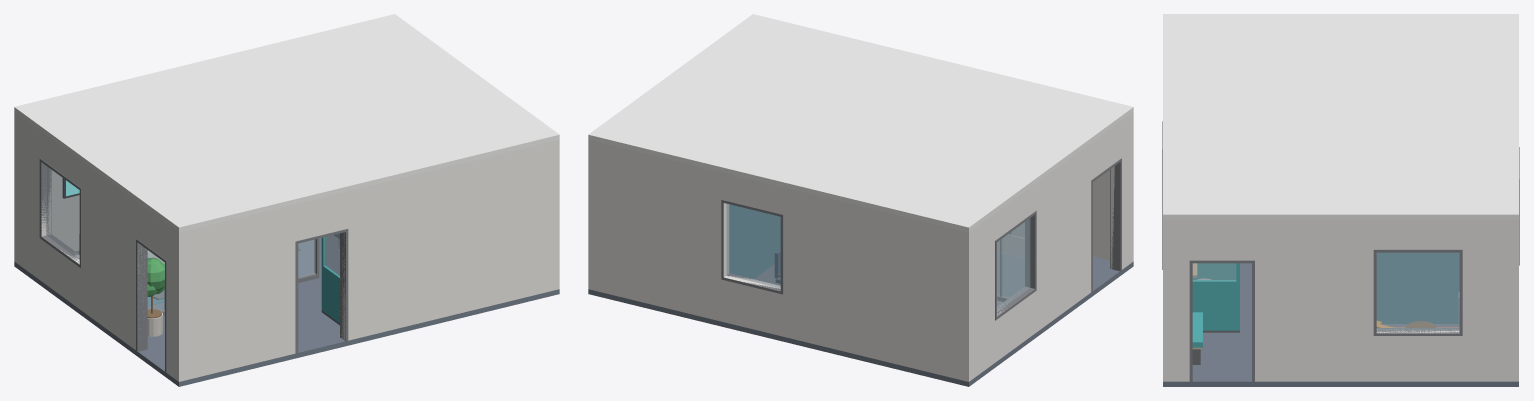
3 views of the same model, side by side, from view 1: azimuth 30°, elevation 25°; view 2: azimuth 150°, elevation 25°; view 3: azimuth 270°, elevation 25° (orthographic). The views are drawn at different scales.
Parts seen in each view (by area): view 1: Ceiling, Wall_S, Wall_W, Floor, Frames_W, Wall_N, PhoneBooth_01, Frames_S, GlassPartition, Plant_Lobby; view 2: Ceiling, Wall_N, Wall_W, Frames_N, Floor, Frames_W, Divider_B, Wall_S, GlassPartition; view 3: Ceiling, Wall_E, Frames_E, Divider_B, Floor, PhoneBooth_02, Wall_N, Wall_S, WaitBench.
Part boxes in pixels (bbox=[...]): Ceiling: bbox=[14, 14, 559, 232]; Wall_S: bbox=[173, 140, 559, 381]; Wall_W: bbox=[19, 116, 173, 377]; Floor: bbox=[14, 235, 559, 386]; Frames_W: bbox=[39, 158, 166, 372]; Wall_N: bbox=[14, 112, 79, 264]; PhoneBooth_01: bbox=[321, 233, 339, 325]; Frames_S: bbox=[295, 229, 348, 353]; GlassPartition: bbox=[147, 234, 339, 315]; Plant_Lobby: bbox=[147, 257, 164, 336]; Ceiling: bbox=[588, 14, 1133, 232]; Wall_N: bbox=[588, 140, 974, 381]; Wall_W: bbox=[974, 116, 1128, 377]; Frames_N: bbox=[721, 199, 783, 294]; Floor: bbox=[588, 234, 1133, 386]; Frames_W: bbox=[995, 158, 1121, 320]; Divider_B: bbox=[729, 204, 780, 278]; Wall_S: bbox=[1012, 112, 1133, 264]; GlassPartition: bbox=[997, 222, 1024, 301]; Ceiling: bbox=[1163, 14, 1518, 219]; Wall_E: bbox=[1174, 220, 1507, 381]; Frames_E: bbox=[1189, 249, 1462, 381]; Divider_B: bbox=[1376, 252, 1459, 323]; Floor: bbox=[1163, 263, 1518, 386]; PhoneBooth_02: bbox=[1192, 263, 1239, 332]; Wall_N: bbox=[1507, 220, 1518, 381]; Wall_S: bbox=[1163, 220, 1174, 381]; WaitBench: bbox=[1192, 312, 1202, 364].
Bounding box in the file's own units: 8.02 × 3.2 × 6.02.
